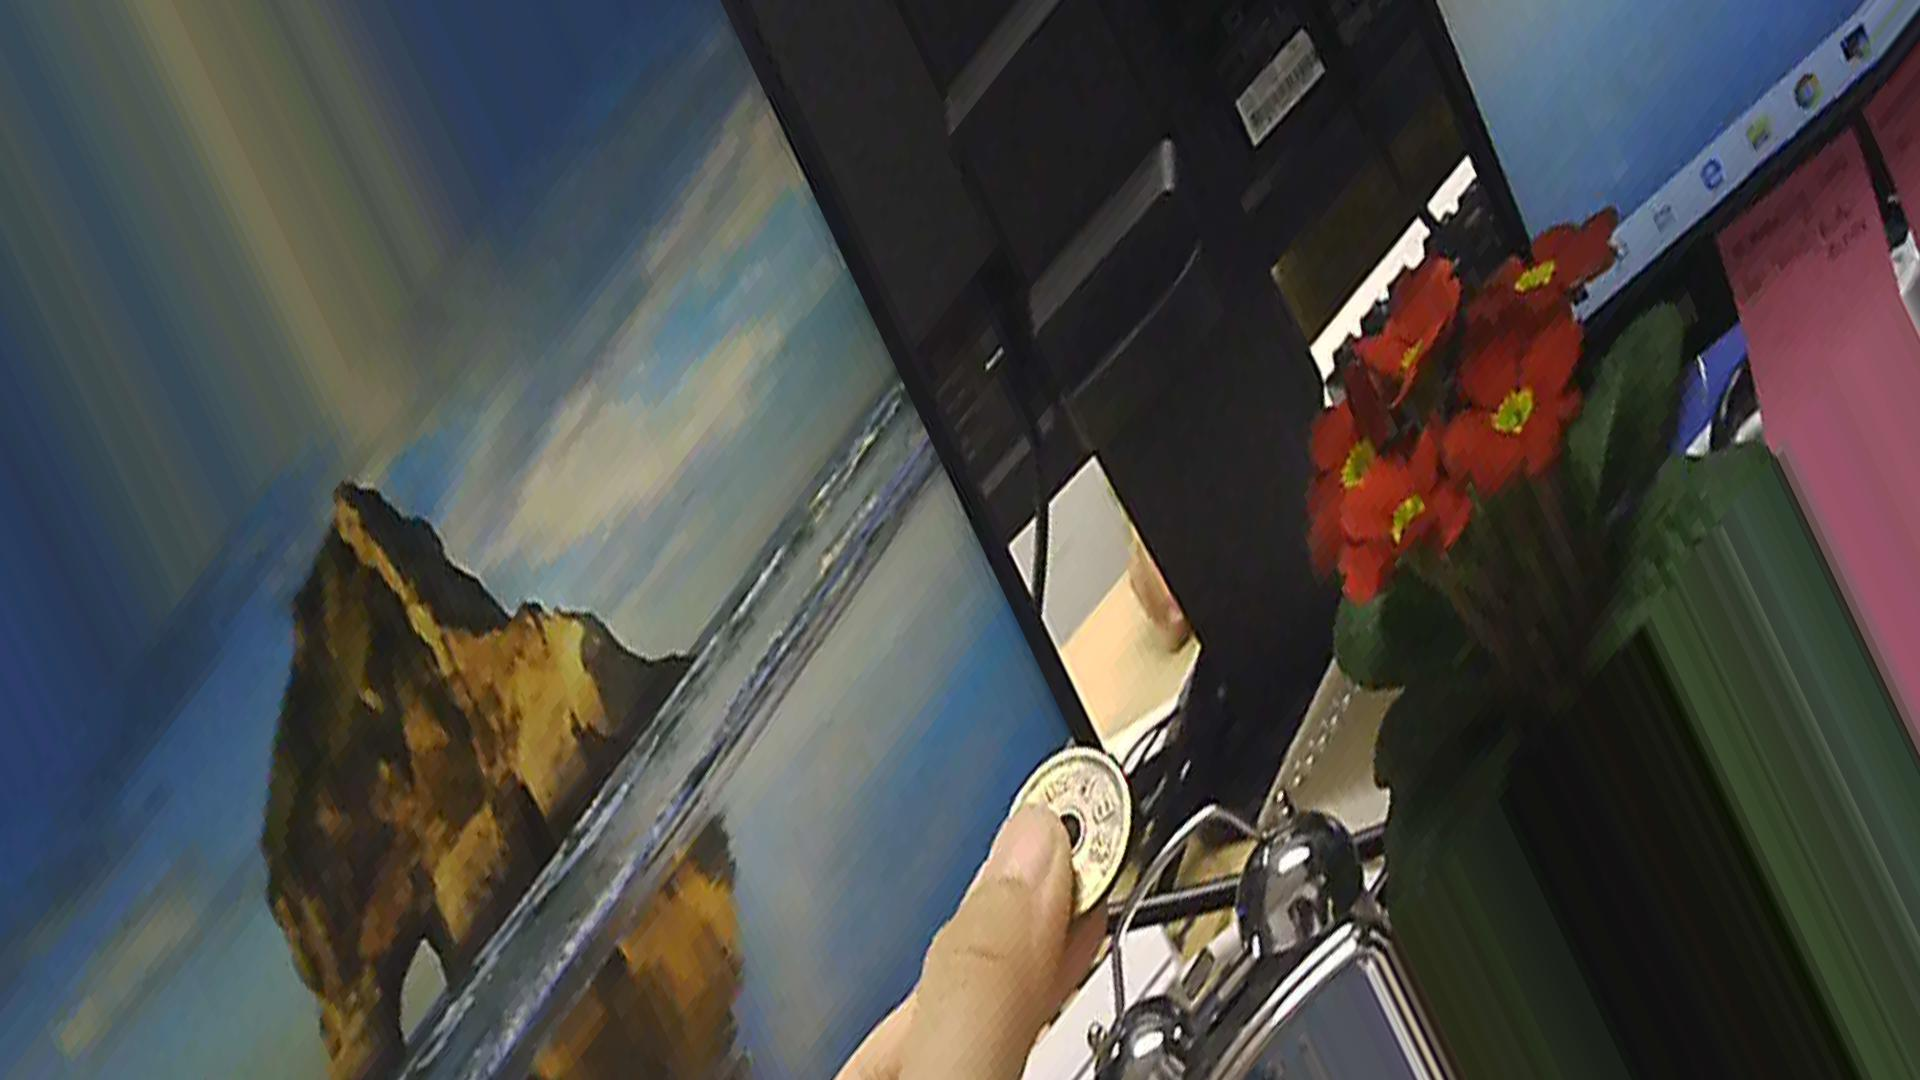5 Yen: (996, 749, 1134, 909)
